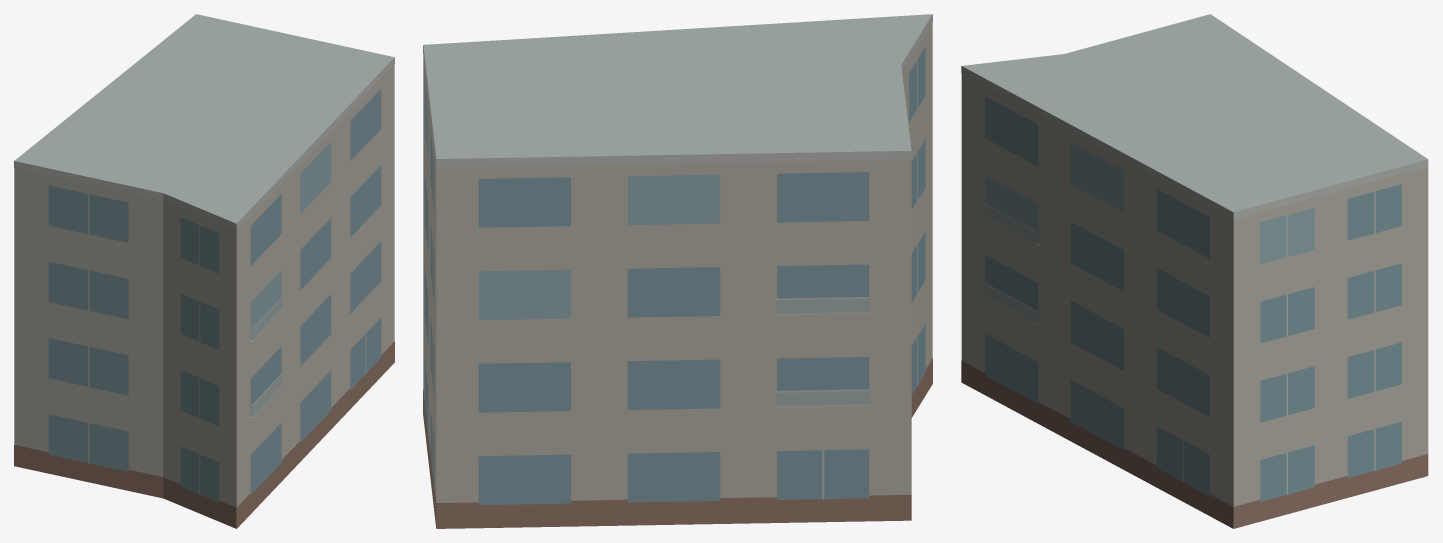
The model's file is survey-upis-32502512.glb.
3 views of the same model, side by side, from view 1: azimuth 30°, elevation 25°; view 2: azimuth 150°, elevation 25°; view 3: azimuth 270°, elevation 25° (orthographic). The views are drawn at different scales.
Parts seen in each view (by area): view 1: survey-upis-32502512.tmp; view 2: survey-upis-32502512.tmp; view 3: survey-upis-32502512.tmp.
Boxes of the visible parts, x1,y1,x2,y2 form: survey-upis-32502512.tmp: (14,14,394,528); survey-upis-32502512.tmp: (423,14,932,528); survey-upis-32502512.tmp: (961,14,1428,528).
Size of the model in its own units: 13.98 by 10.4 by 13.91.
